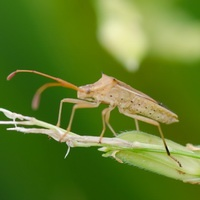insect: (7, 70, 181, 166), (69, 102, 109, 137)
